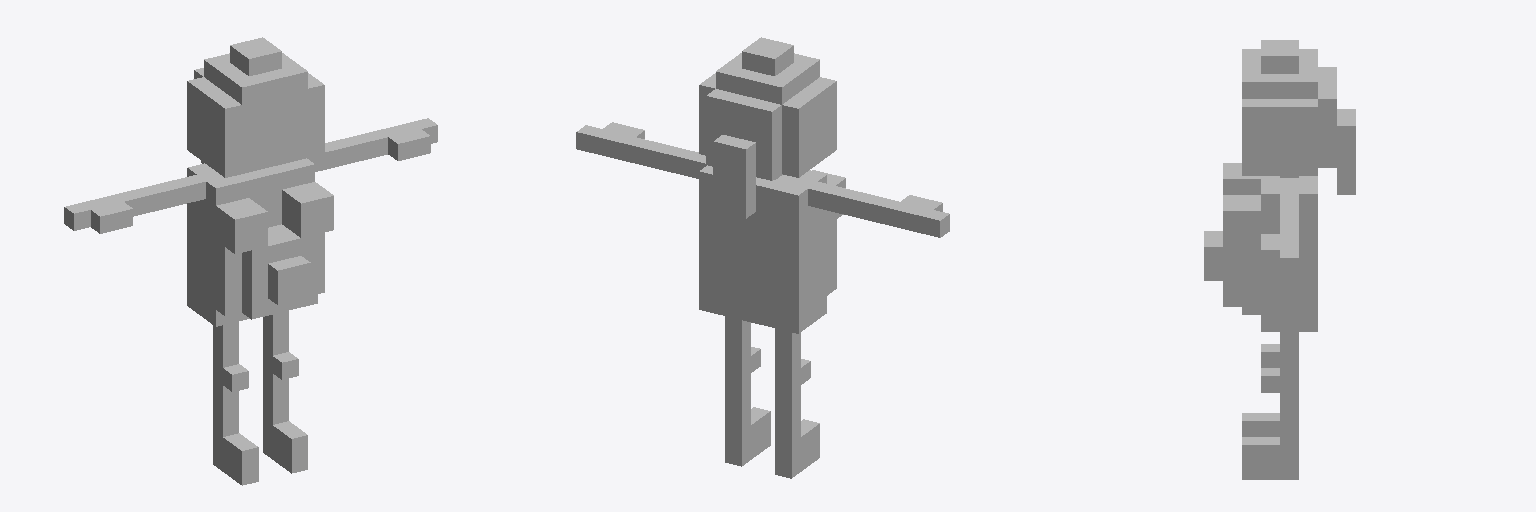
File: pregnant.obj
3 views of the same model, side by side, from view 1: azimuth 30°, elevation 25°; view 2: azimuth 150°, elevation 25°; view 3: azimuth 270°, elevation 25° (orthographic).
Parts seen in each view (by area): view 1: object 1; view 2: object 1; view 3: object 1.
Part boxes in pixels (x1,y1,x2,y2): object 1: (64,37,437,485); object 1: (576,37,949,478); object 1: (1204,40,1355,479).
Bounding box in the file's own units: 2.2 × 2.4 × 0.8.